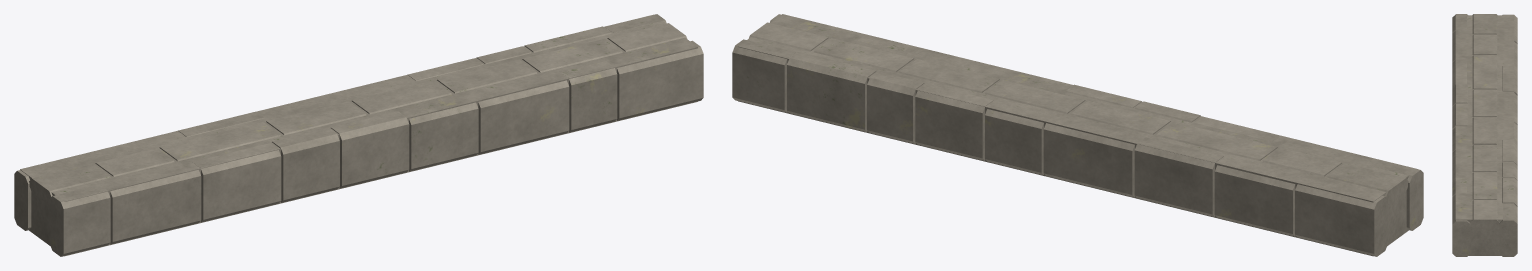
The model's file is HO_Found_Plinth_12.fbx.
The picture shows the model from 3 angles, left to right: view 1: azimuth 30°, elevation 25°; view 2: azimuth 150°, elevation 25°; view 3: azimuth 270°, elevation 25°; orthographic projection. The views are drawn at different scales.
Visible parts, largest first — view 1: HO_Found_Plinth_12; view 2: HO_Found_Plinth_12; view 3: HO_Found_Plinth_12.
Boxes of the visible parts, box(x1,y1,x2,y2) form: HO_Found_Plinth_12: box(14, 14, 703, 256); HO_Found_Plinth_12: box(732, 14, 1423, 256); HO_Found_Plinth_12: box(1452, 14, 1517, 256).
Size of the model in its own units: 12 by 1 by 1.6.
